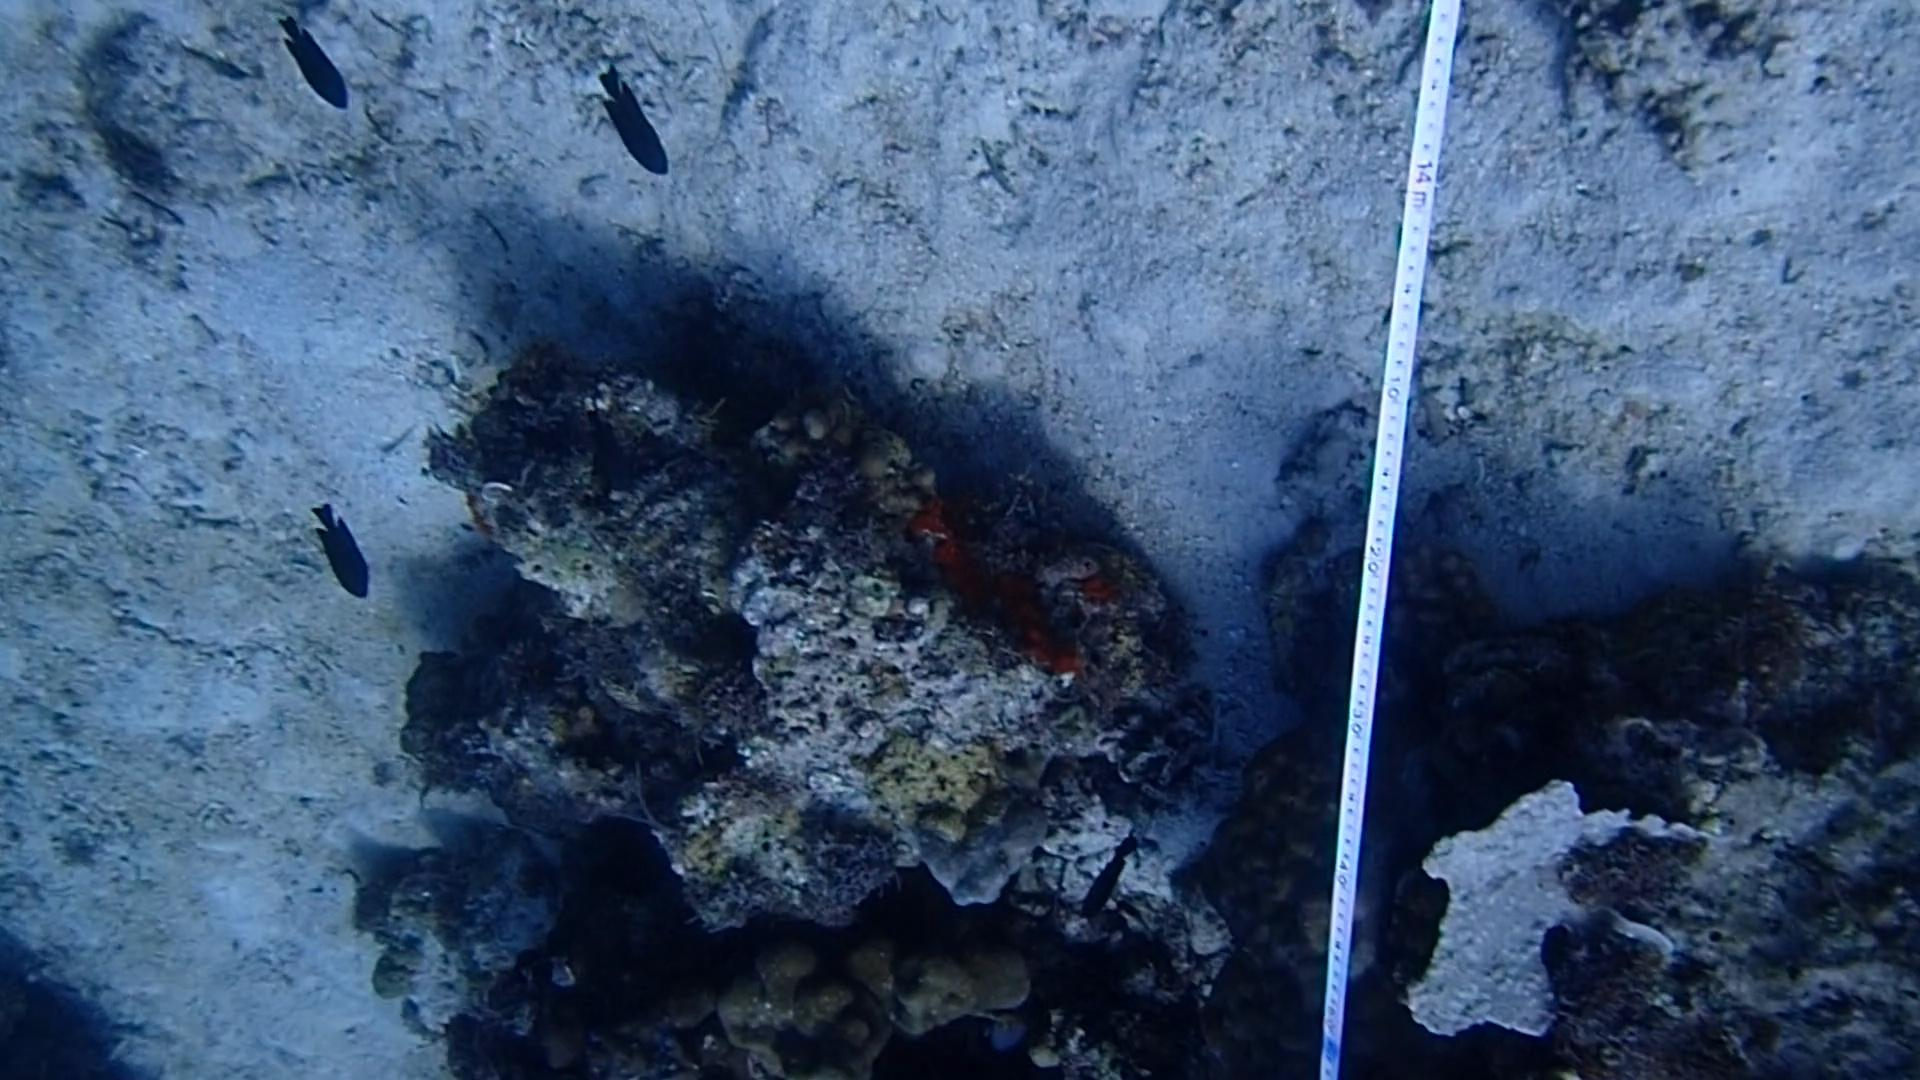Dark Fish: (265, 8, 363, 124), (595, 55, 676, 190), (303, 497, 381, 616), (1073, 831, 1154, 928)
